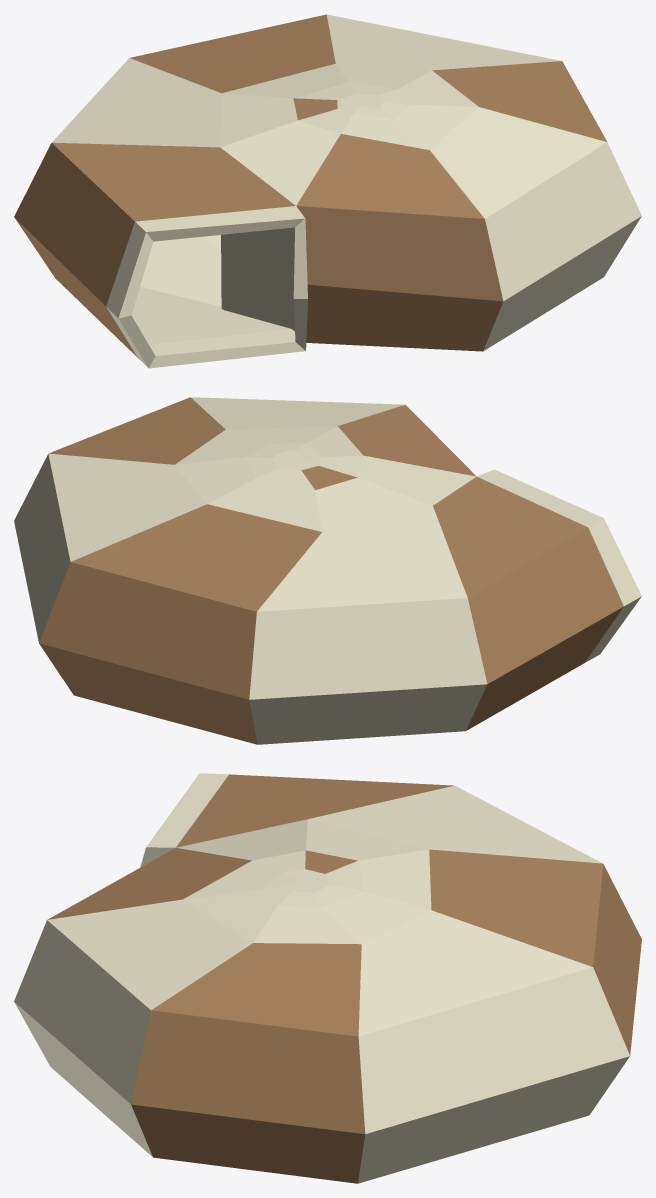
Rendered from shell_1.glb.
3 views of the same model, one above another, from view 1: azimuth 30°, elevation 25°; view 2: azimuth 150°, elevation 25°; view 3: azimuth 270°, elevation 25° (orthographic). The views are drawn at different scales.
Parts seen in each view (by area): view 1: shell_1; view 2: shell_1; view 3: shell_1.
Part boxes in pixels (x1,y1,x2,y2): shell_1: (14,14,641,368); shell_1: (14,397,641,744); shell_1: (14,773,641,1183).
Bounding box in the file's own units: 0.1122 × 0.038 × 0.1003.
1 material, 1 textured.
